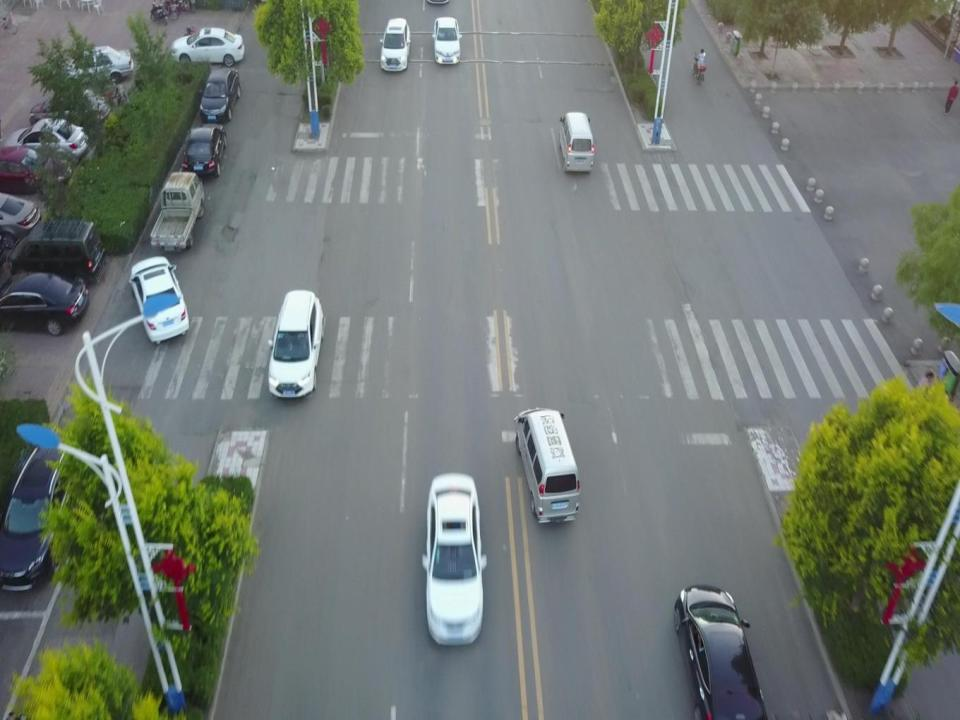car: (674, 584, 768, 720), (0, 441, 83, 590), (422, 472, 486, 648), (268, 289, 324, 400), (0, 273, 90, 334), (129, 257, 189, 344), (3, 118, 90, 162), (0, 146, 70, 197), (29, 88, 109, 125), (170, 26, 244, 66), (64, 45, 133, 84), (182, 125, 227, 178), (199, 68, 240, 121), (380, 17, 411, 71), (432, 16, 462, 66)
truck: (150, 170, 203, 250)
van: (514, 408, 580, 524), (6, 218, 107, 287), (559, 111, 595, 174)
